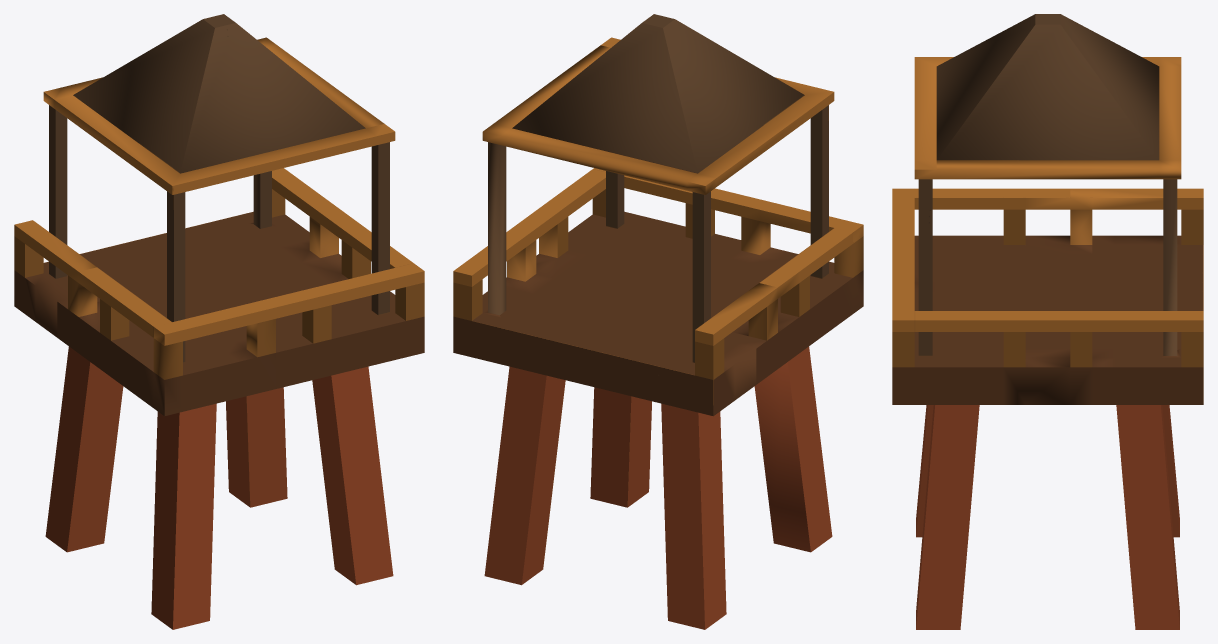
Rendered from TorreVigilante.fbx.
The picture shows the model from 3 angles, left to right: view 1: azimuth 30°, elevation 25°; view 2: azimuth 150°, elevation 25°; view 3: azimuth 270°, elevation 25°; orthographic projection. The views are drawn at different scales.
Parts seen in each view (by area): view 1: Watchtower, Watchtower.001; view 2: Watchtower, Watchtower.001; view 3: Watchtower, Watchtower.001.
Part boxes in pixels (box(x1,y1,x2,y2)): Watchtower: box(14, 37, 424, 629); Watchtower.001: box(73, 14, 365, 173); Watchtower: box(453, 37, 863, 629); Watchtower.001: box(512, 14, 804, 173); Watchtower: box(892, 57, 1203, 629); Watchtower.001: box(936, 14, 1159, 160).
Size of the model in its own units: 600 by 1180 by 600.
